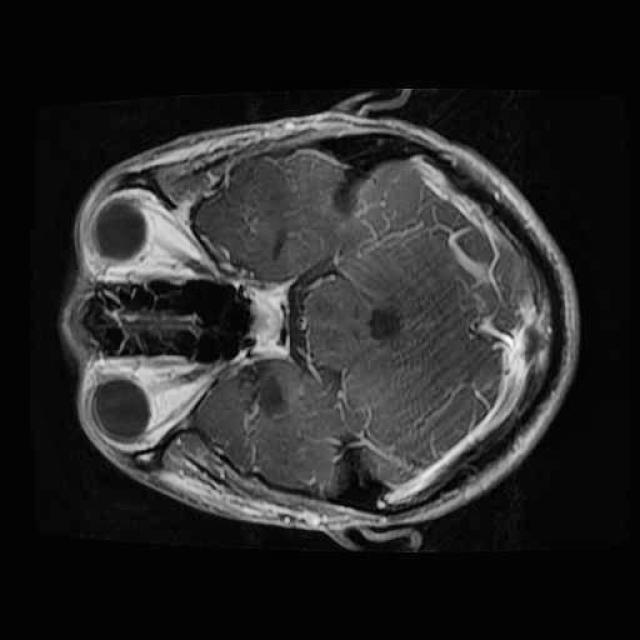Non-Tumor: (239, 339, 371, 459)
